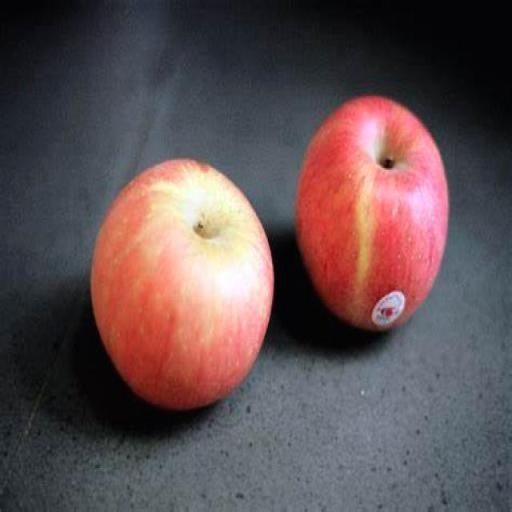fruit: (92, 160, 273, 409), (296, 96, 447, 330)
